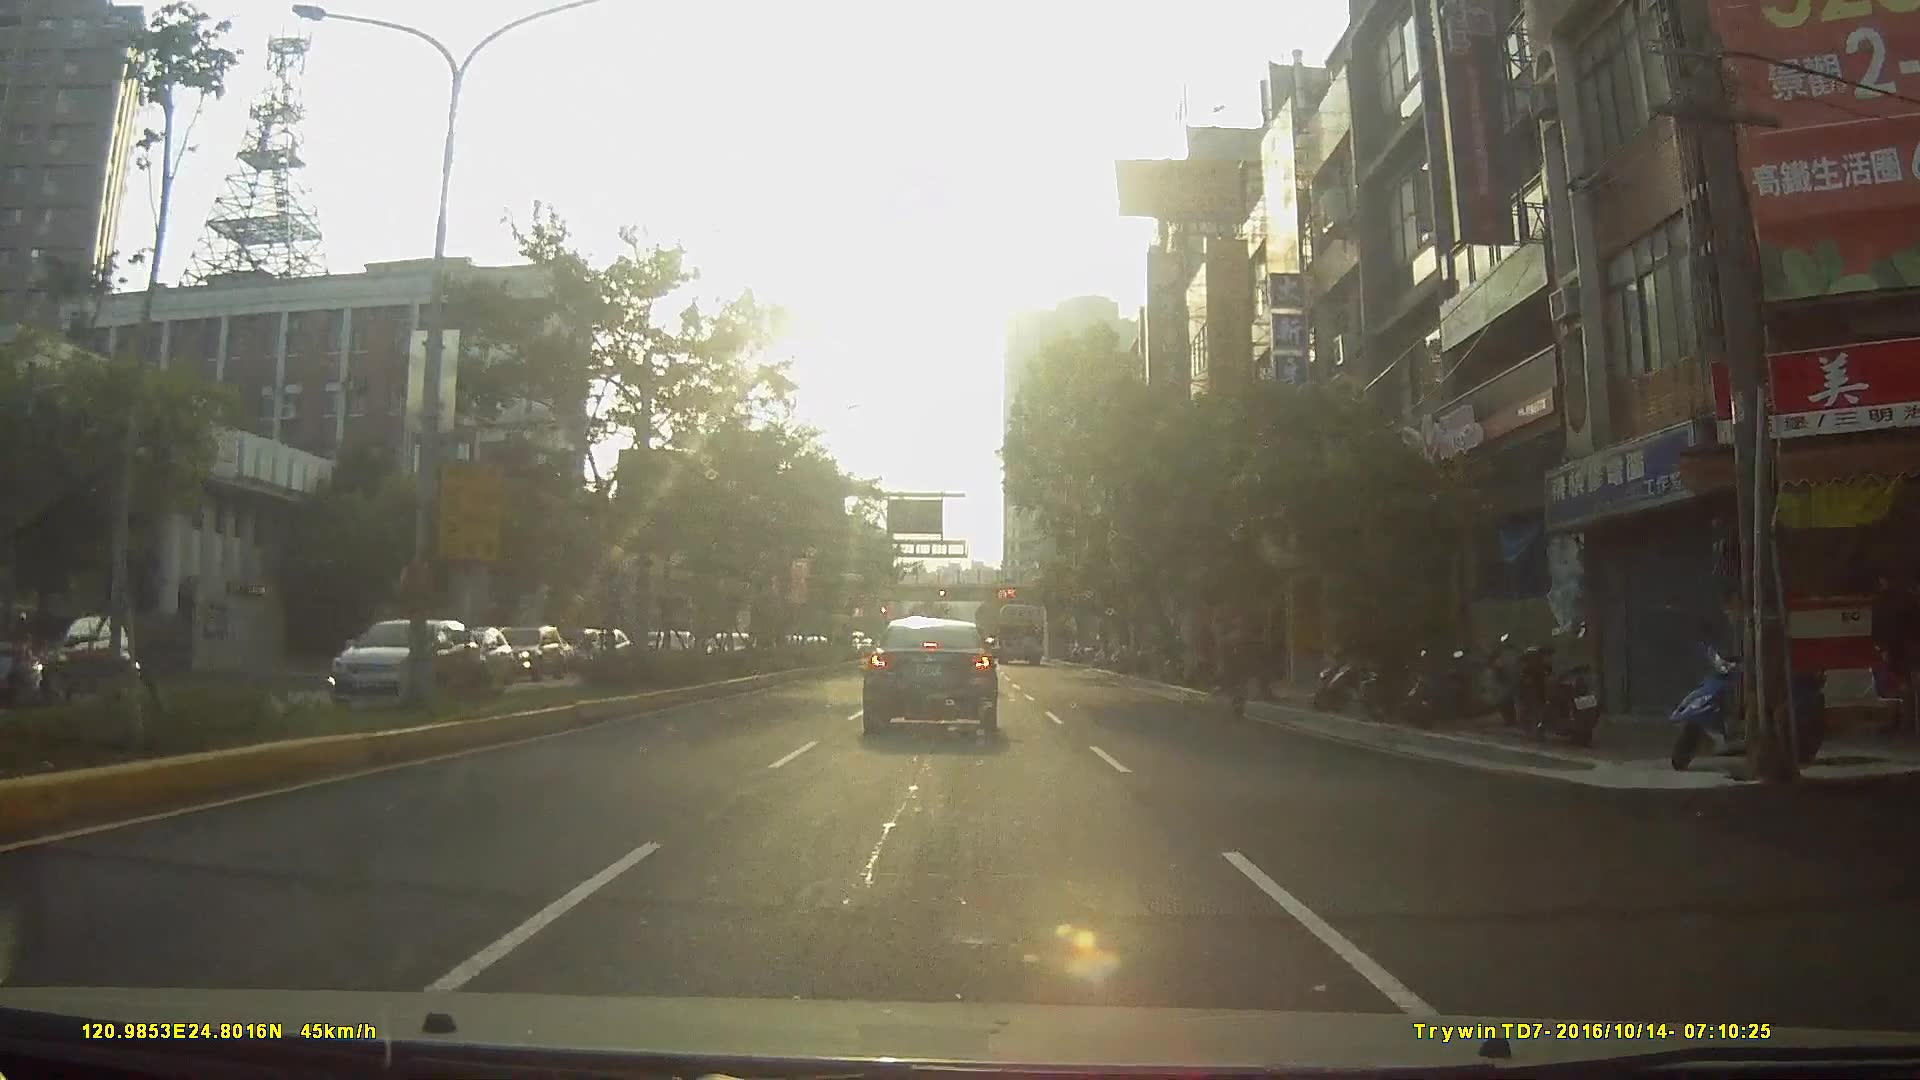pedestrian: (1218, 610, 1261, 720)
rider: (1, 611, 60, 717)
vehicle: (321, 604, 479, 713), (862, 617, 1001, 736), (1, 610, 152, 703), (486, 628, 572, 688), (457, 623, 521, 676), (992, 602, 1044, 667)
